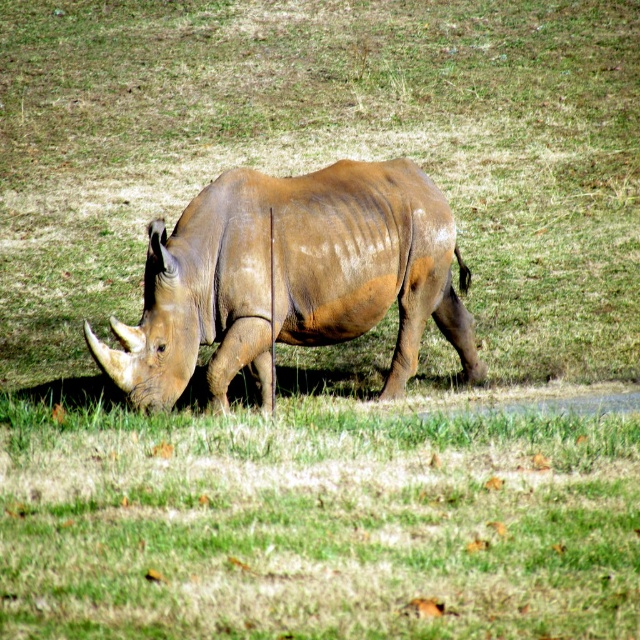Rhinoceros: (83, 157, 489, 419)
